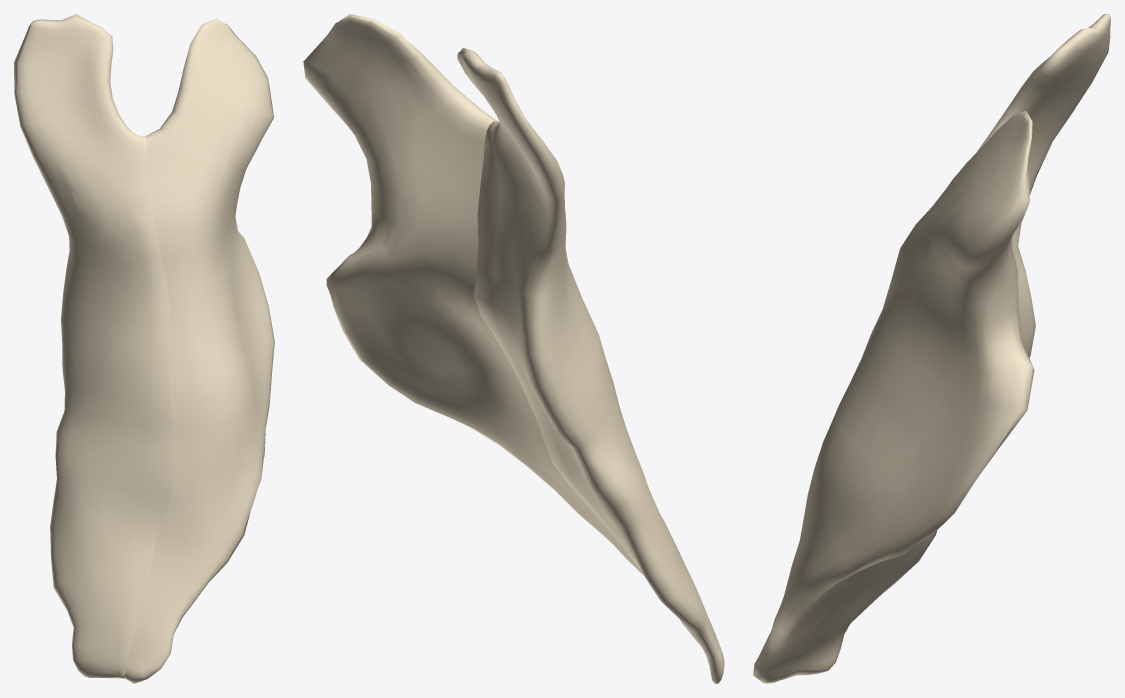
The model's file is thymus.glb.
The picture shows the model from 3 angles, left to right: view 1: azimuth 30°, elevation 25°; view 2: azimuth 150°, elevation 25°; view 3: azimuth 270°, elevation 25°; orthographic projection. The views are drawn at different scales.
Parts seen in each view (by area): view 1: VH_M_thymus_lobe_L; view 2: VH_M_thymus_lobe_L; view 3: VH_M_thymus_lobe_L.
Part boxes in pixels (box(x1,y1,x2,y2)): VH_M_thymus_lobe_L: box(14, 14, 274, 683); VH_M_thymus_lobe_L: box(303, 14, 724, 683); VH_M_thymus_lobe_L: box(753, 14, 1110, 683).
Size of the model in its own units: 0.037 by 0.0757 by 0.0351.
